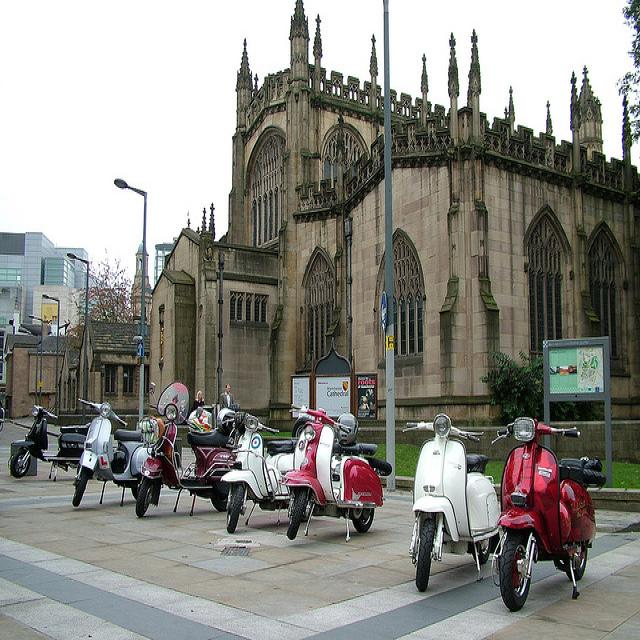motor: (489, 416, 602, 612), (401, 412, 503, 593), (278, 405, 391, 543), (133, 385, 237, 520), (226, 410, 298, 535), (72, 397, 146, 507), (25, 403, 91, 482), (7, 446, 44, 481)
